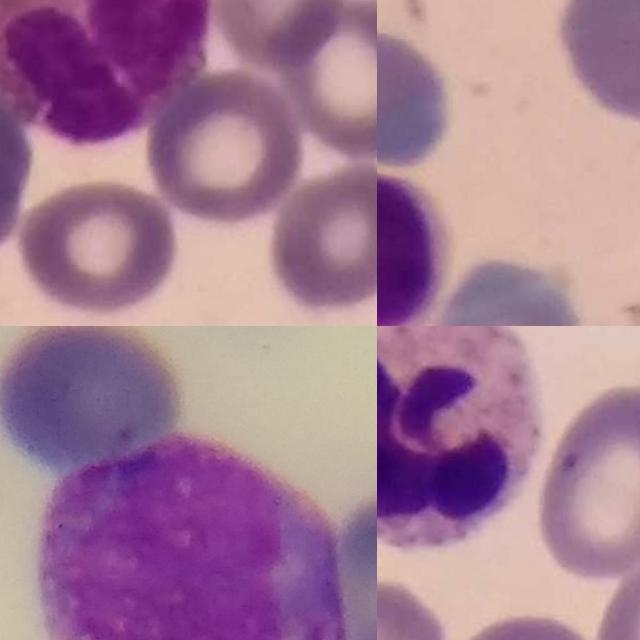Basophil: (36, 435, 352, 640)
Eosinophil: (0, 0, 209, 143)
Lymphocyte: (377, 167, 452, 326)
Neutrophil: (377, 326, 540, 546)
